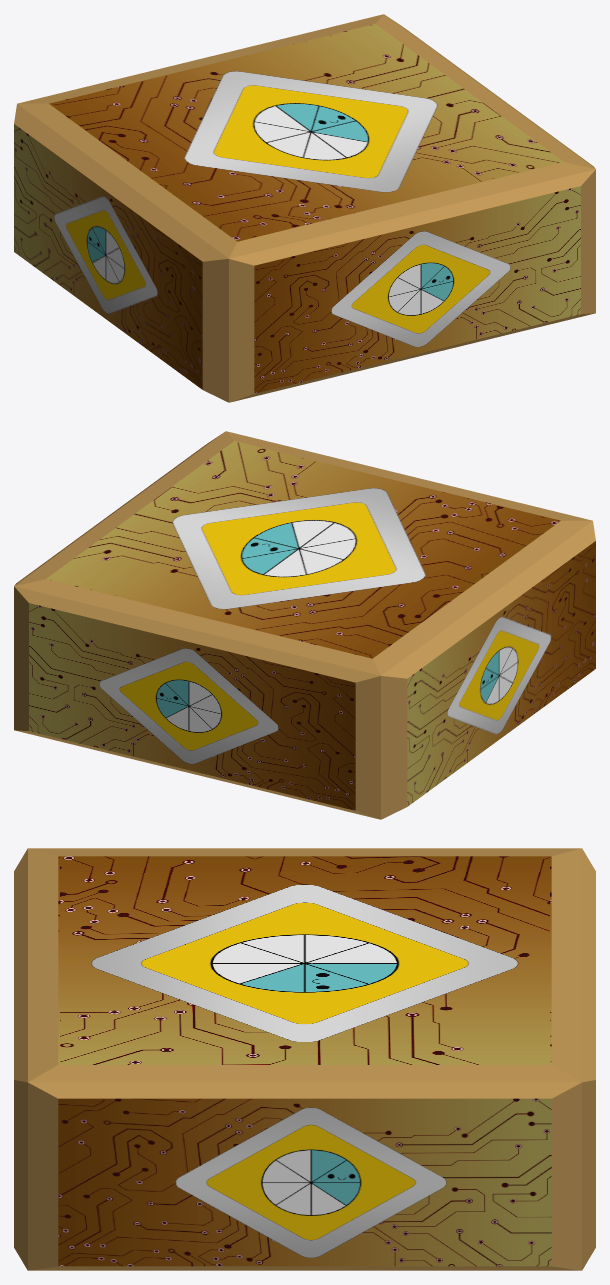
3 renders of one model, top to bottom at view 1: azimuth 30°, elevation 25°; view 2: azimuth 150°, elevation 25°; view 3: azimuth 270°, elevation 25°, orthographic. The views are drawn at different scales.
Visible parts, largest first — view 1: 3/8; view 2: 3/8; view 3: 3/8.
Part boxes in pixels (x1=…): 3/8: x1=14, y1=14, x2=595, y2=402; 3/8: x1=14, y1=431, x2=595, y2=819; 3/8: x1=14, y1=848, x2=595, y2=1270.
Bounding box in the file's own units: 213 × 78.75 × 210.
2 materials, 1 textured.
